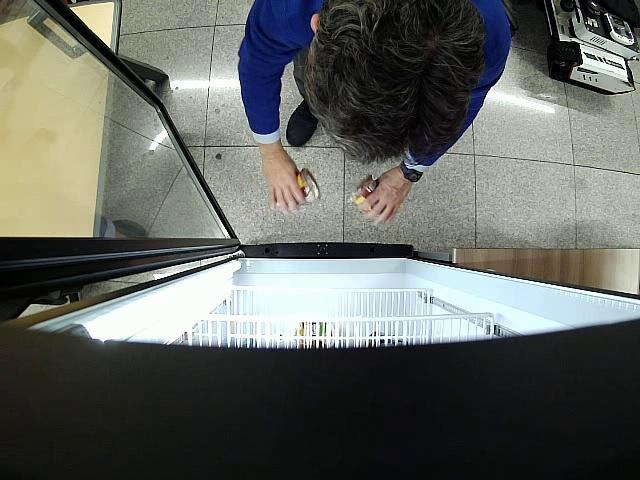00_hand: (357, 166, 411, 228), (263, 150, 307, 215)
06_nuguri_S: (297, 167, 320, 203), (353, 174, 379, 205)
